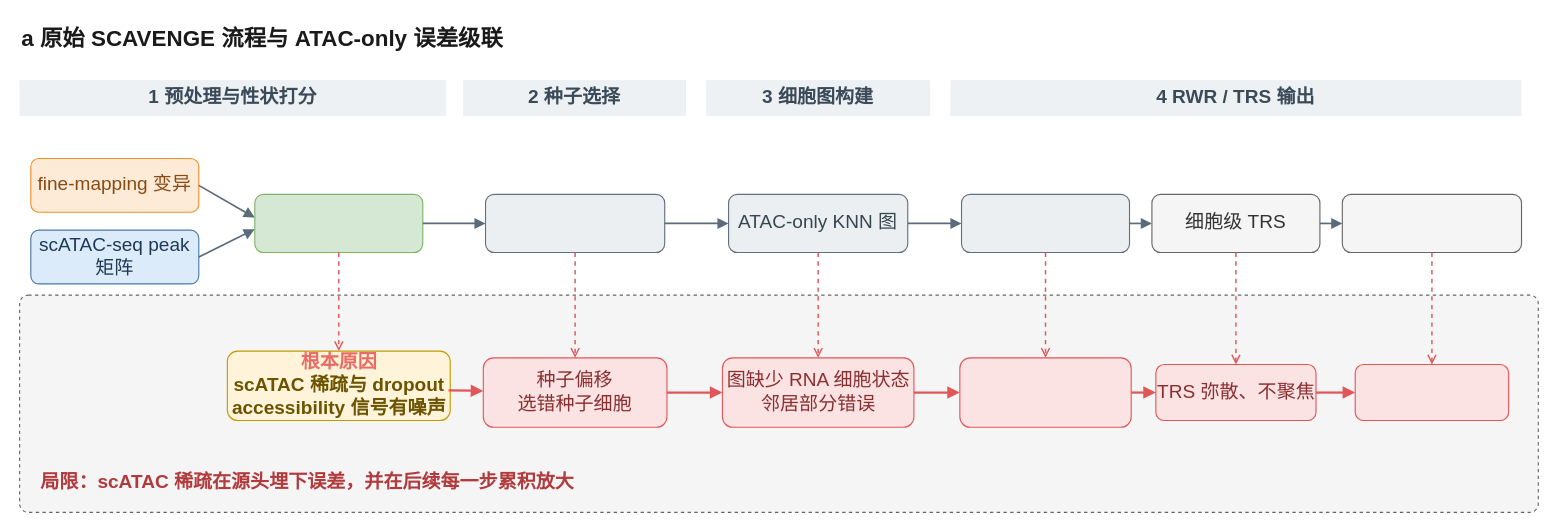
This 1558x532 diagram has some shape labels left out. The shapes that lost their labels are listed below. From the top down, each one's box as (x1, y1, x2, y2) in pixels, then its label:
(254, 193, 423, 253): g-chromVAR z-score
(484, 193, 665, 253): ATAC-only 种子细胞
(960, 193, 1130, 253): RWR 传播
(1341, 193, 1522, 253): 高风险细胞排序
(959, 357, 1131, 427): 误差放大 传播扩散偏差
(1354, 363, 1509, 421): 高风险细胞不可靠
